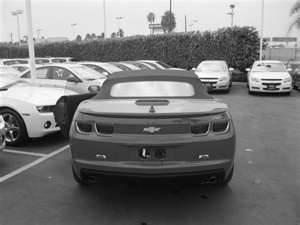car: (68, 71, 238, 187)
